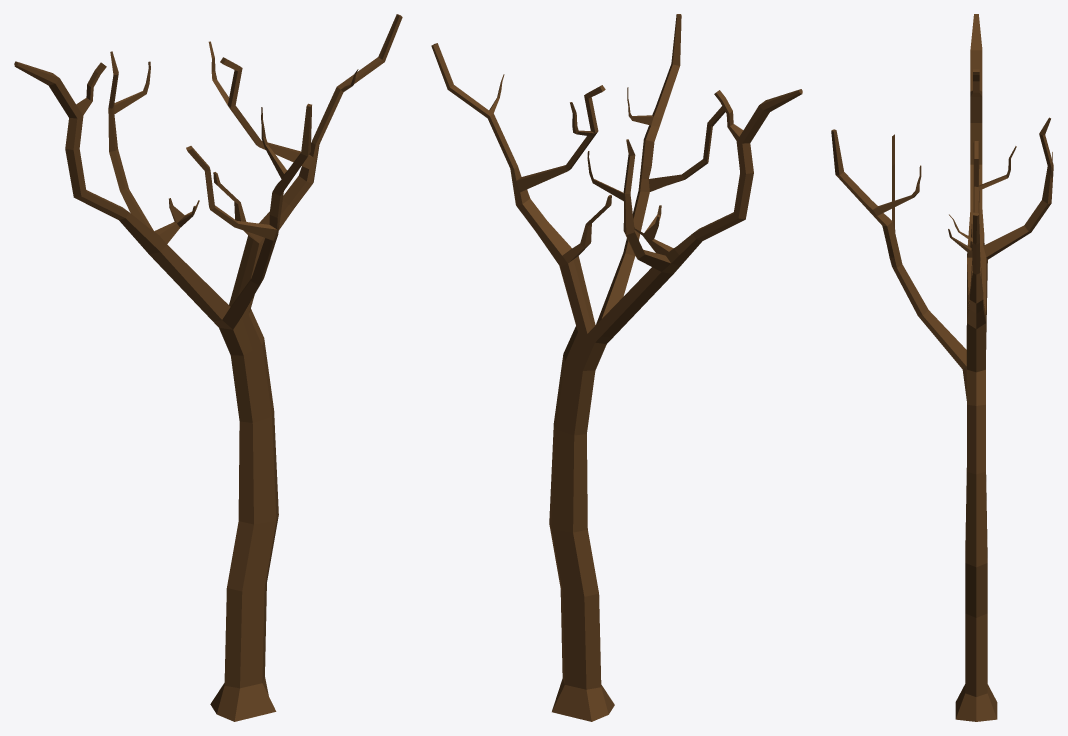
The model's file is Dode_boom_1.fbx.
3 views of the same model, side by side, from view 1: azimuth 30°, elevation 25°; view 2: azimuth 150°, elevation 25°; view 3: azimuth 270°, elevation 25° (orthographic). The views are drawn at different scales.
Visible parts, largest first — view 1: Cube; view 2: Cube; view 3: Cube.
Boxes of the visible parts, box(x1,y1,x2,y2) form: Cube: box(14, 14, 402, 721); Cube: box(431, 14, 802, 721); Cube: box(831, 14, 1053, 721).
Bounding box in the file's own units: 1846 × 3196 × 1071.
1 material, 1 textured.
